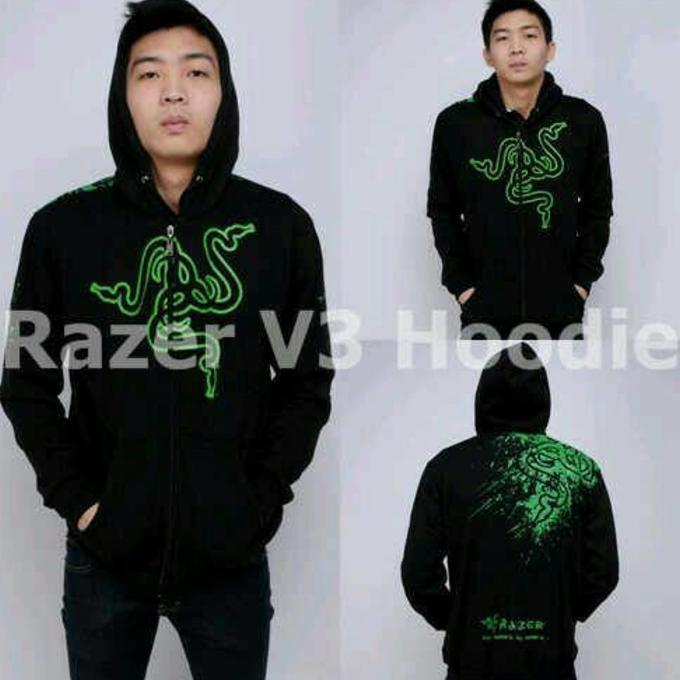sweater: (5, 170, 330, 540), (403, 430, 621, 668), (429, 86, 617, 312)
